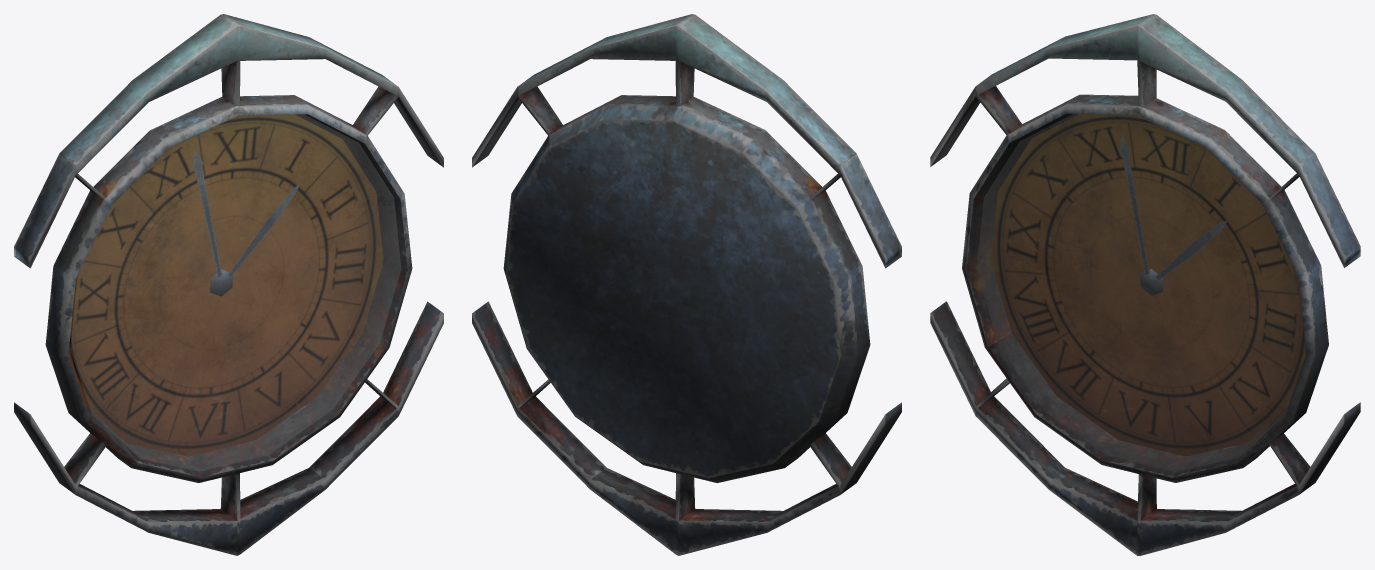
3 renders of one model, left to right at view 1: azimuth 30°, elevation 25°; view 2: azimuth 150°, elevation 25°; view 3: azimuth 330°, elevation 25°, orthographic.
Visible parts, largest first — view 1: govde, cam; view 2: govde; view 3: govde, cam.
Part boxes in pixels (x1,y1,x2,y2): govde: (14,14,443,555); cam: (70,114,401,471); govde: (472,14,901,555); govde: (930,14,1360,555); cam: (976,114,1305,471).
Size of the model in its own units: 36.02 by 44.06 by 3.45.
